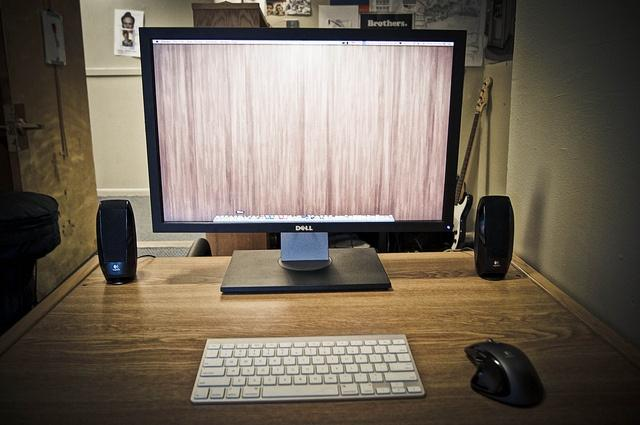AIO PC-Monitor-TV: (137, 24, 467, 292)
